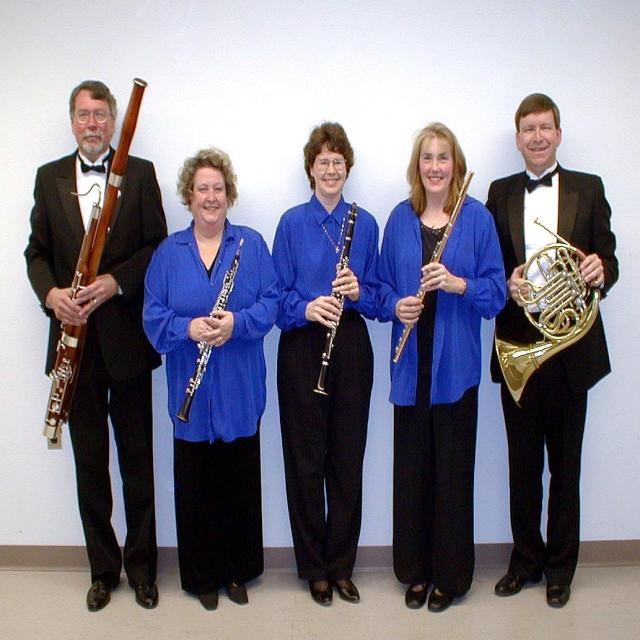clarinet: (174, 235, 249, 428), (310, 199, 363, 398)
